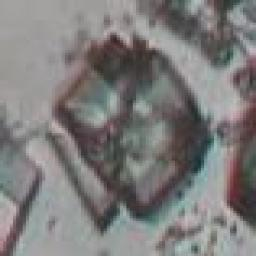crystals: (42, 31, 214, 221)
